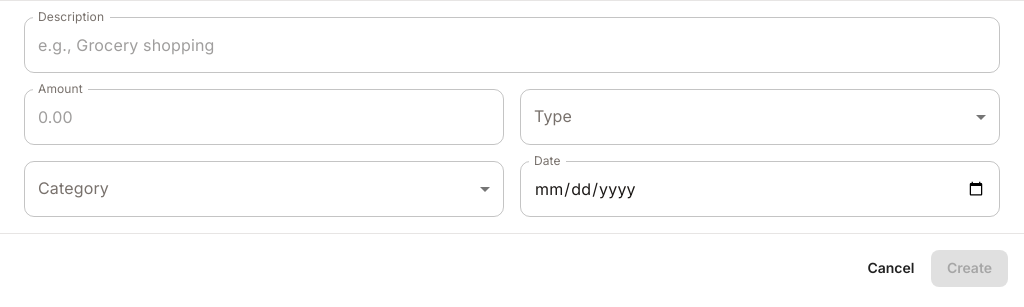
Test: TransactionForm › keeps submit disabled until an amount is entered
Expected: the button "Create" is disabled, 931,250 -> 1008,286
In the number field labelled "Amount": (264, 117) 24,89 -> 504,145, type "10"
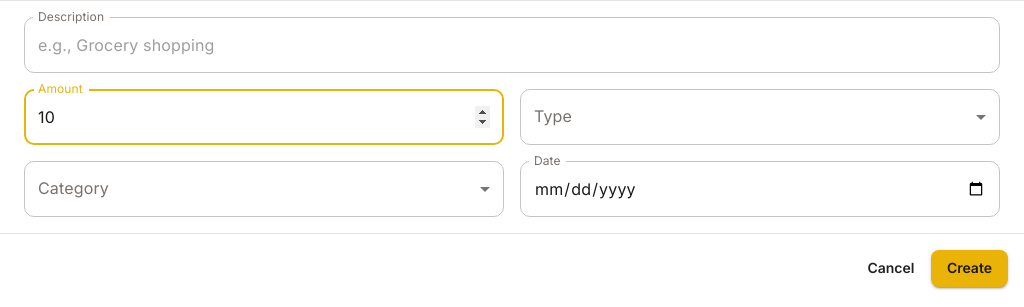
Expected: the button "Create" is enabled, 931,250 -> 1008,286
